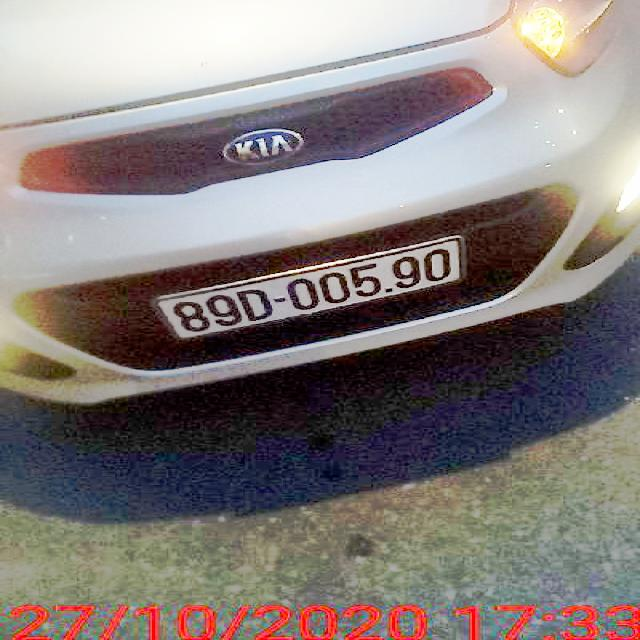license_plate: (159, 240, 466, 341)
